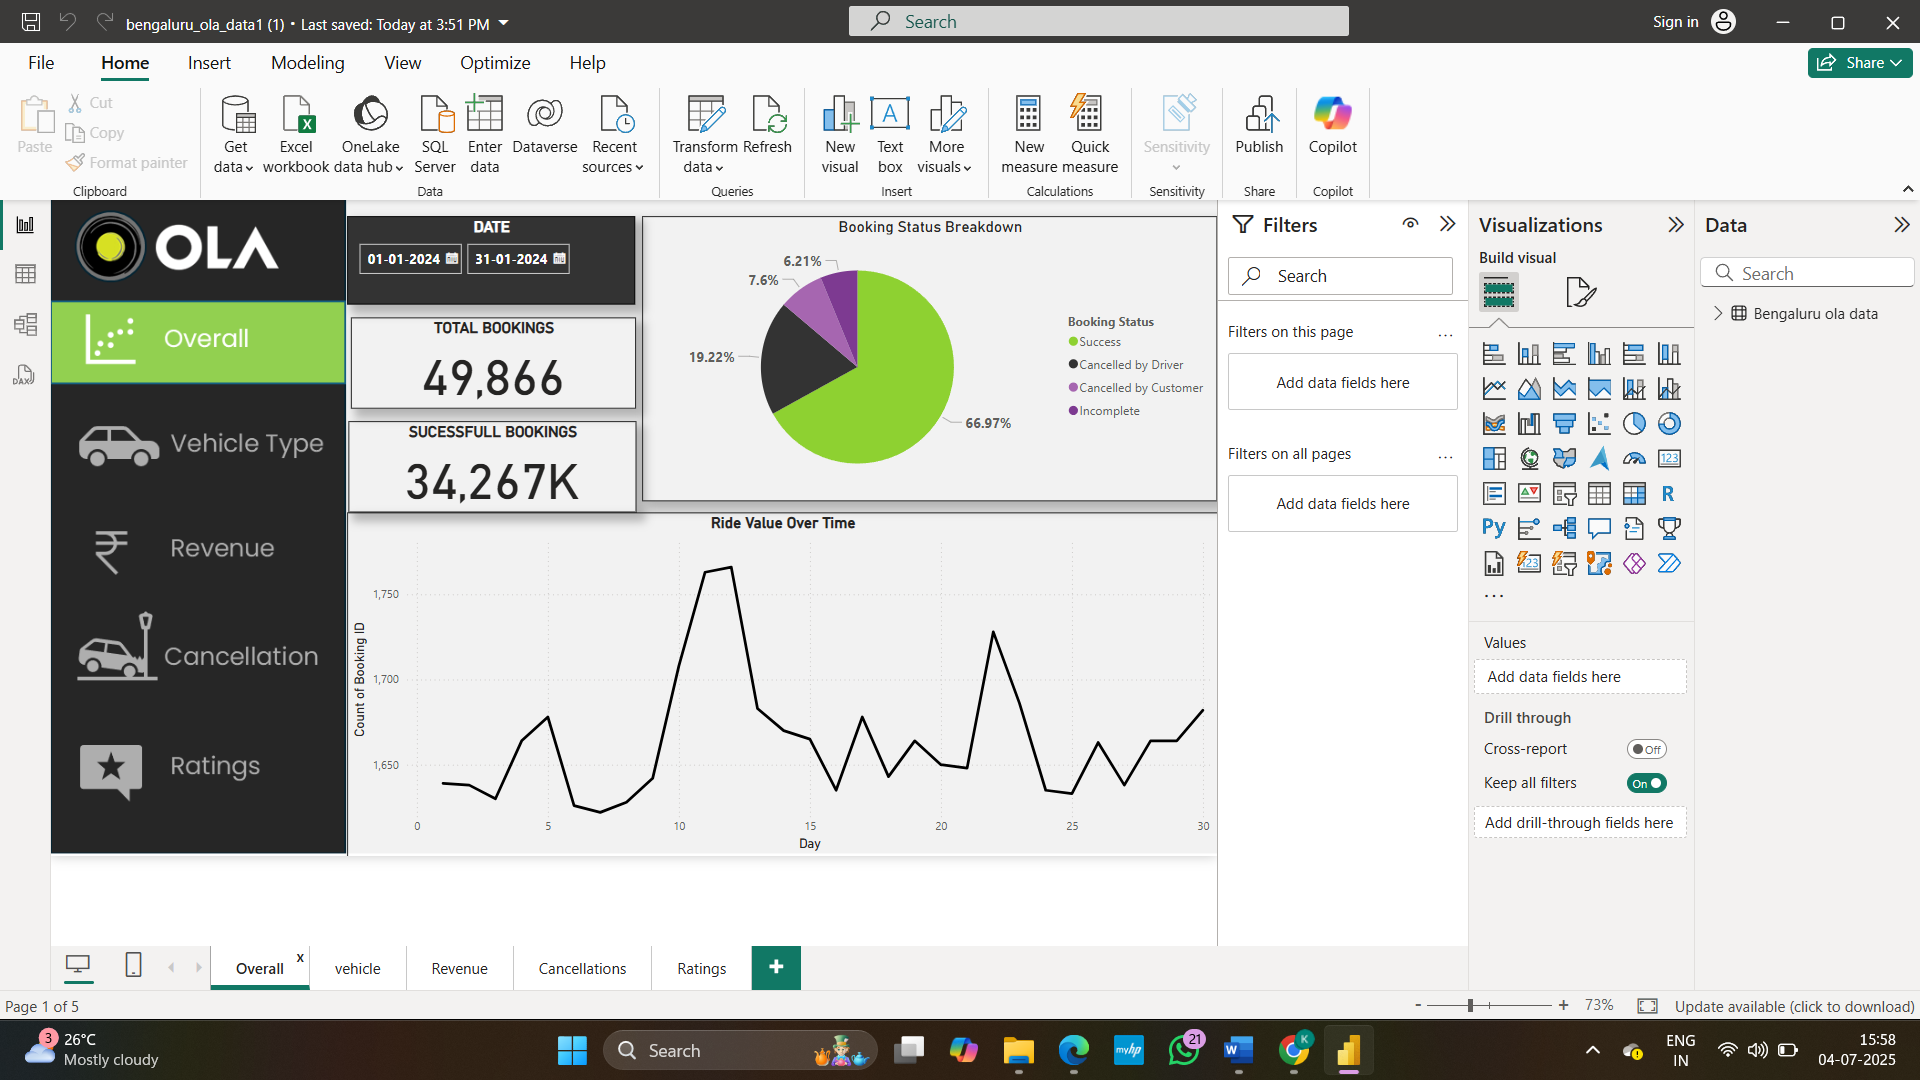

The page's visual inventory and layout, read from the dashboard file:
{"tool":"powerbi","page":{"name":"Overall","canvas":[1280,720],"ordinal":0},"visuals":[{"type":"actionButton","box":[0,229.2,323.8,81],"z":0},{"type":"actionButton","box":[0,341.7,323.8,81],"z":1000},{"type":"actionButton","box":[0,450.1,323.8,81],"z":2000},{"type":"actionButton","box":[0,583.2,323.8,81],"z":3000},{"type":"pieChart","title":"Booking Status Breakdown","fields":{"Category":["Bengaluru ola data.Booking Status"],"Y":["CountNonNull(Bengaluru ola data.Booking Status)"]},"box":[649.1,17.9,631.2,312.6],"z":4000},{"type":"lineChart","title":"Ride Value Over Time","fields":{"Category":["Bengaluru ola data.Date.Variation.Date Hierarchy.Day"],"Y":["CountNonNull(Bengaluru ola data.Booking ID)"]},"box":[324.5,342.4,955.8,378.1],"z":5000},{"type":"card","title":"TOTAL BOOKINGS","fields":{"Values":["Count(Bengaluru ola data.Booking ID)"]},"box":[329,129.5,312.6,99.7],"z":6000},{"type":"card","title":"SUCESSFULL BOOKINGS","fields":{"Values":["Sum(Bengaluru ola data.Booking Value)"]},"box":[326,242.7,315.6,99.7],"z":7000},{"type":"slicer","title":"DATE","fields":{"Values":["Bengaluru ola data.Date"]},"box":[324.5,17.9,315.6,96.8],"z":8000}]}

Visuals, with their boxes on the page's 1280x720 design canvas (x1, y1, x2, y2). These are canvas units, not pixel positions in the 1920x1080 screenshot, which may show the page scaled, cropped or inside an application window:
actionButton: [x1=0, y1=229, x2=324, y2=310]
actionButton: [x1=0, y1=342, x2=324, y2=423]
actionButton: [x1=0, y1=450, x2=324, y2=531]
actionButton: [x1=0, y1=583, x2=324, y2=664]
"Booking Status Breakdown" pieChart: [x1=649, y1=18, x2=1280, y2=330]
"Ride Value Over Time" lineChart: [x1=324, y1=342, x2=1280, y2=720]
"TOTAL BOOKINGS" card: [x1=329, y1=130, x2=642, y2=229]
"SUCESSFULL BOOKINGS" card: [x1=326, y1=243, x2=642, y2=342]
"DATE" slicer: [x1=324, y1=18, x2=640, y2=115]
